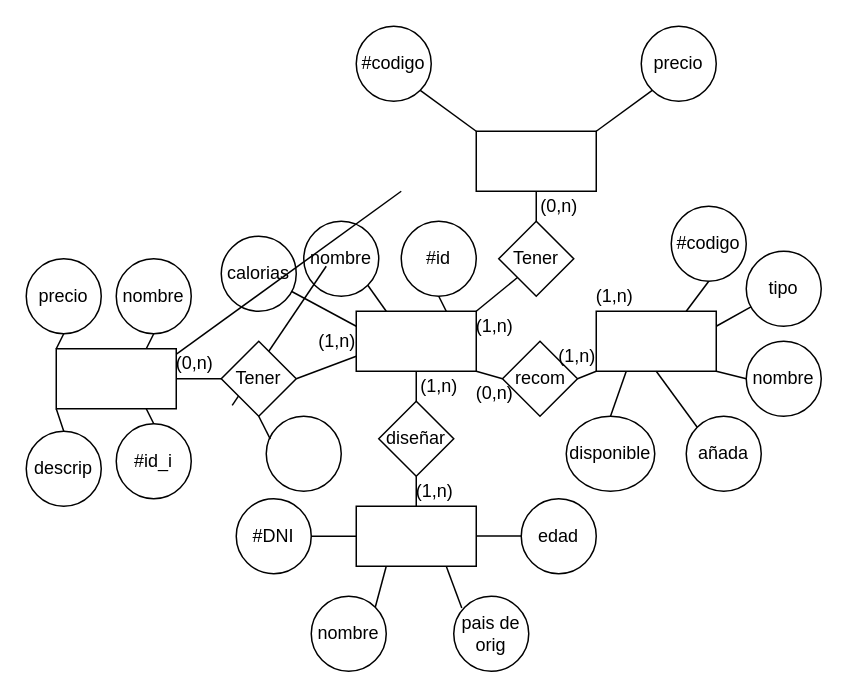
The diagram is 848 pixels wide and 698 high, and some of its shapes have lost their labels. The shapes that lost their labels are listed below. From the top down, each one's centre as x and y in pixels, then its label:
At (x=535, y=160): "Menu".
At (x=415, y=340): "Plato".
At (x=655, y=340): "Vino".
At (x=115, y=378): "ingred".
At (x=303, y=453): "cantidad".
At (x=415, y=535): "Cocinero".
